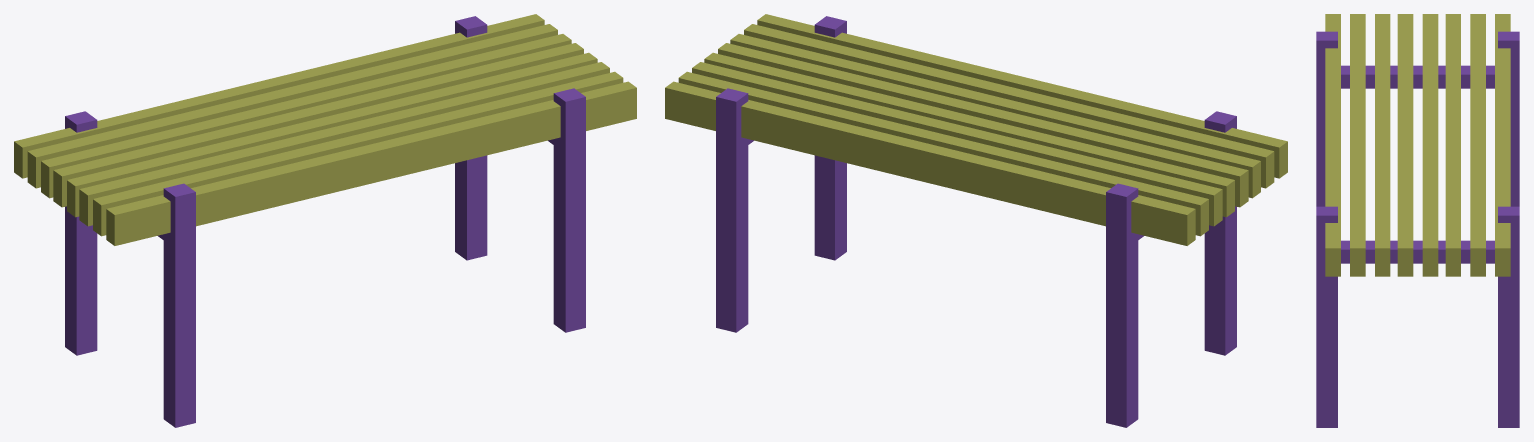
File: bench.fbx
3 renders of one model, left to right at view 1: azimuth 30°, elevation 25°; view 2: azimuth 150°, elevation 25°; view 3: azimuth 270°, elevation 25°, orthographic. The views are drawn at different scales.
Visible parts, largest first — view 1: bench; view 2: bench; view 3: bench.
Part boxes in pixels (left/top/right/bottom): bench: left=14, top=14, right=636, bottom=427; bench: left=665, top=14, right=1287, bottom=427; bench: left=1316, top=14, right=1519, bottom=427.
Bounding box in the file's own units: 78.43 × 33.15 × 28.73.
